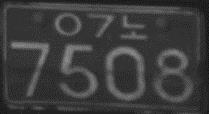0: (103, 45, 146, 102), (53, 11, 81, 37)
5: (58, 43, 99, 99)
7: (9, 39, 49, 98), (86, 12, 114, 38)
8: (153, 47, 194, 103)
노: (120, 14, 147, 40)
